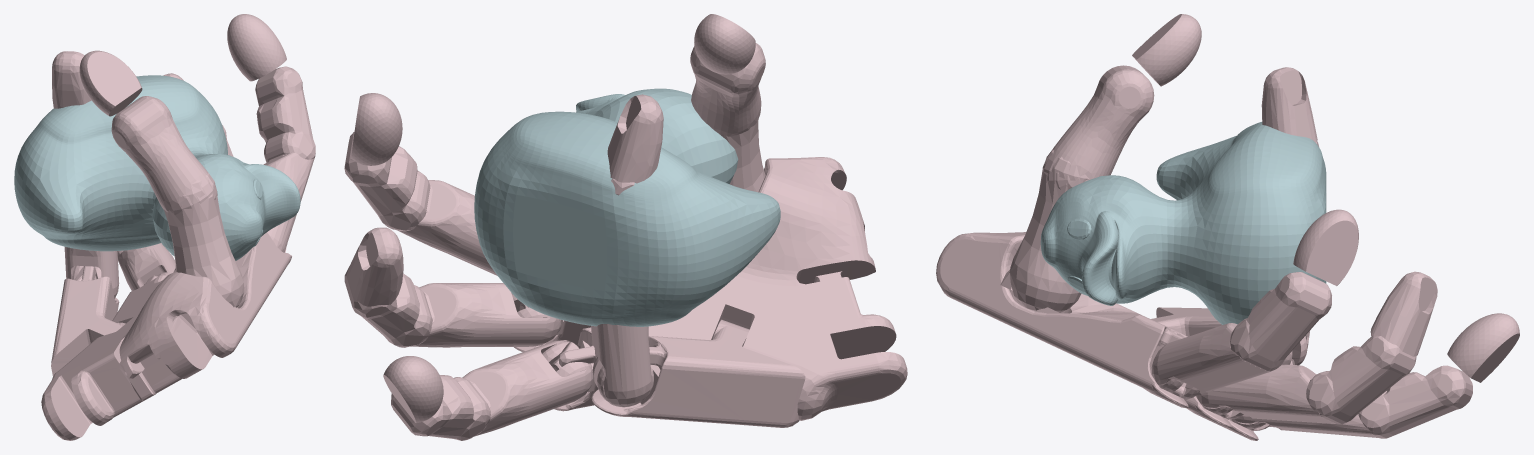
Rendered from grasp_6.glb.
3 renders of one model, left to right at view 1: azimuth 30°, elevation 25°; view 2: azimuth 150°, elevation 25°; view 3: azimuth 270°, elevation 25°, orthographic. The views are drawn at different scales.
Visible parts, largest first — view 1: world; view 2: world; view 3: world.
Boxes of the visible parts, x1,y1,x2,y2 form: world: (14,14,315,440); world: (344,14,907,440); world: (936,14,1519,440).
Size of the model in its own units: 0.1561 by 0.1416 by 0.1961.
